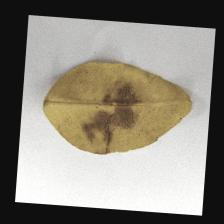black spot: (66, 74, 140, 145)
